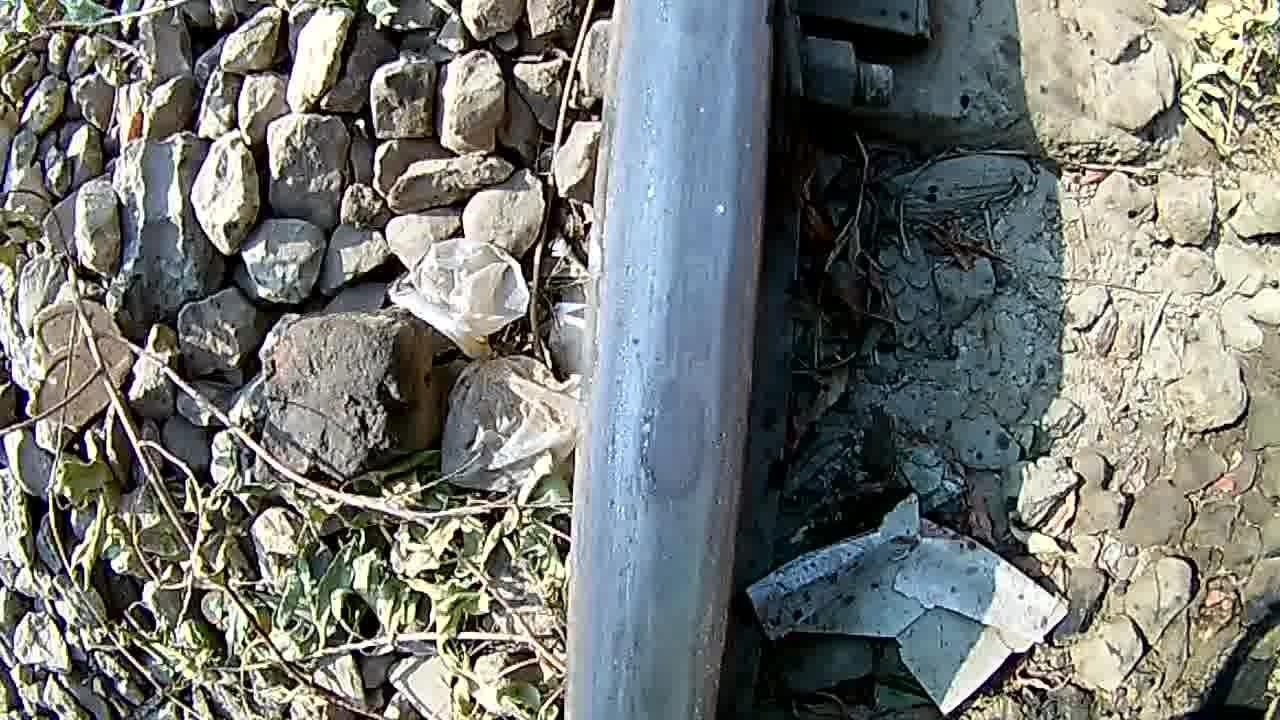bolt_missing: (622, 1, 745, 720)
